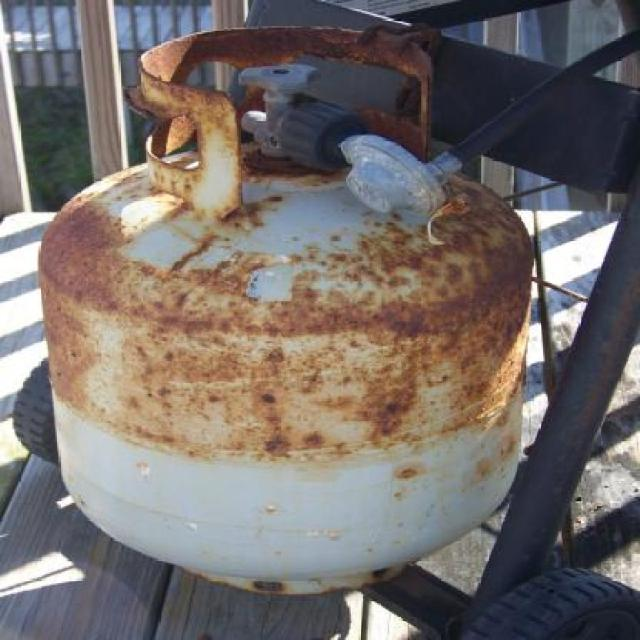corrosion: (41, 21, 544, 598)
